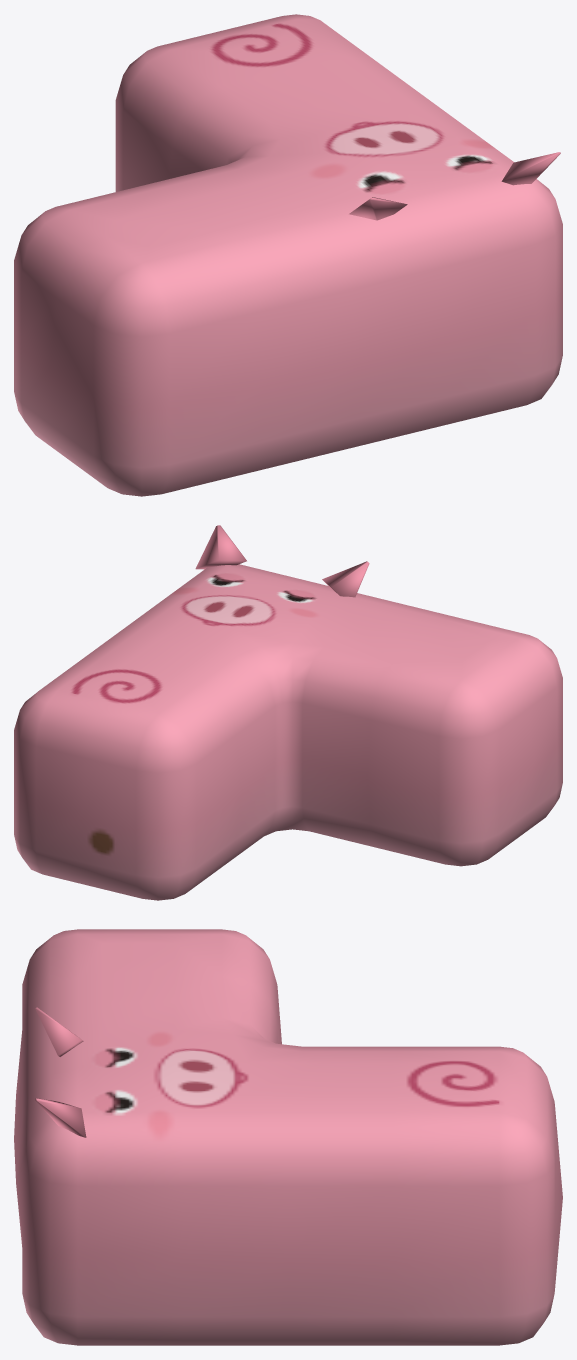
Rendered from Pig_Corner.fbx.
3 views of the same model, one above another, from view 1: azimuth 30°, elevation 25°; view 2: azimuth 150°, elevation 25°; view 3: azimuth 270°, elevation 25° (orthographic). The views are drawn at different scales.
Parts seen in each view (by area): view 1: Pig_Corner; view 2: Pig_Corner; view 3: Pig_Corner.
Boxes of the visible parts, <box> form: Pig_Corner: <box>14,14,562,496</box>; Pig_Corner: <box>14,525,562,900</box>; Pig_Corner: <box>14,929,562,1345</box>.
Bounding box in the file's own units: 1.98 × 0.9771 × 1.98.
1 material, 1 textured.
